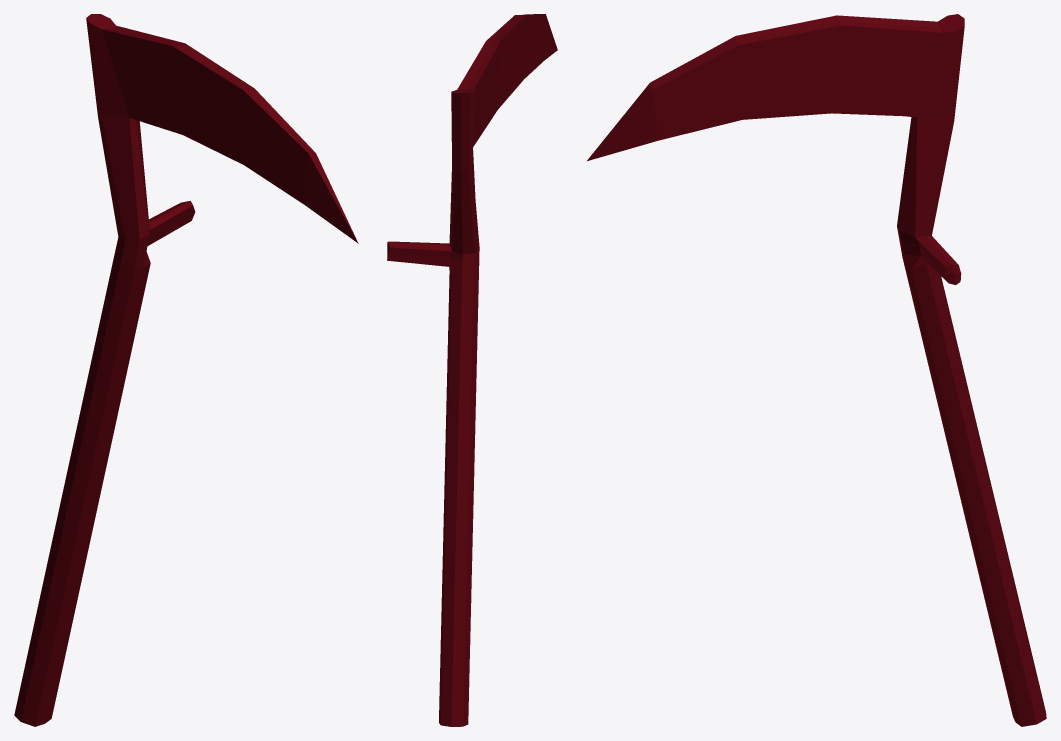
The model's file is Scythe.fbx.
3 renders of one model, left to right at view 1: azimuth 30°, elevation 25°; view 2: azimuth 150°, elevation 25°; view 3: azimuth 270°, elevation 25°, orthographic. The views are drawn at different scales.
Parts seen in each view (by area): view 1: Plane; view 2: Plane; view 3: Plane.
Part boxes in pixels (x1,y1,x2,y2): Plane: (14, 14, 358, 726); Plane: (387, 14, 557, 726); Plane: (587, 14, 1046, 726).
Size of the model in its own units: 193 by 1007 by 580.
